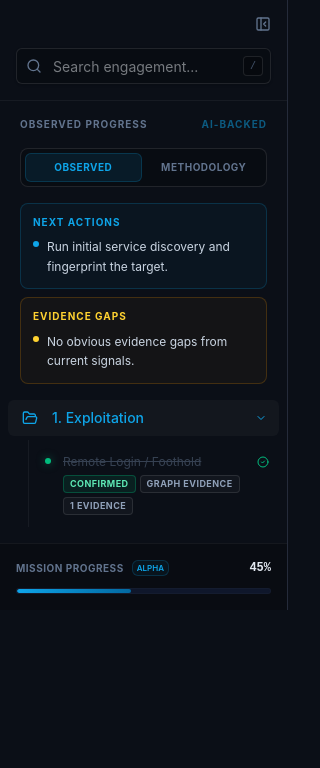
Test: Sidebar › uses linked graph nodes as concrete evidence for an observed item
Expected: the text "Graph Evidence" is shown, [140, 475, 240, 493]
Click the text "Remote Login / Foothold": x=132, y=461 [63, 454, 201, 469]
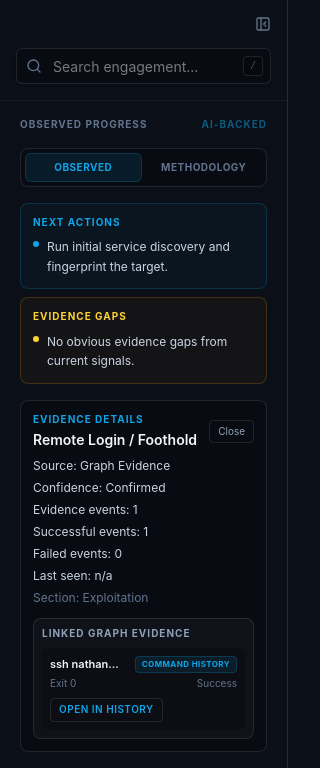
Result: the text "Linked Graph Evidence" is shown at [42, 627, 190, 639]
Result: the text "ssh nathan@10.129.34.191" is shown at [50, 657, 127, 672]
Result: the text "Command History" is shown at [135, 656, 237, 673]
